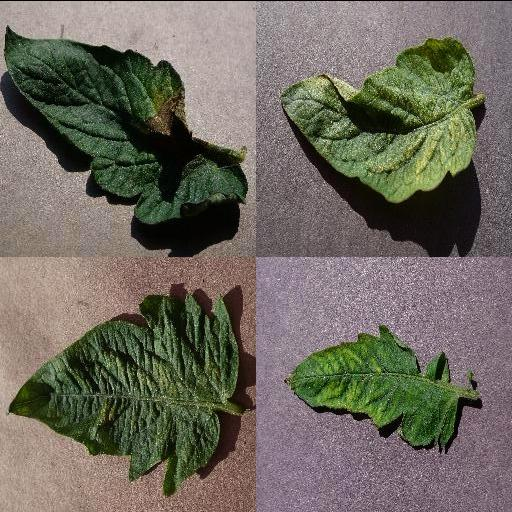Late Blight: (3, 24, 251, 224)
Mosaic Virus: (283, 322, 459, 450)
Spider Mites: (7, 292, 245, 494), (283, 35, 477, 203)
